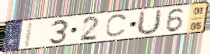2: (79, 15, 101, 43)
3: (47, 18, 70, 45)
6: (165, 7, 186, 33)
C: (103, 13, 129, 39)
I: (22, 21, 36, 49)
U: (135, 8, 164, 37)
